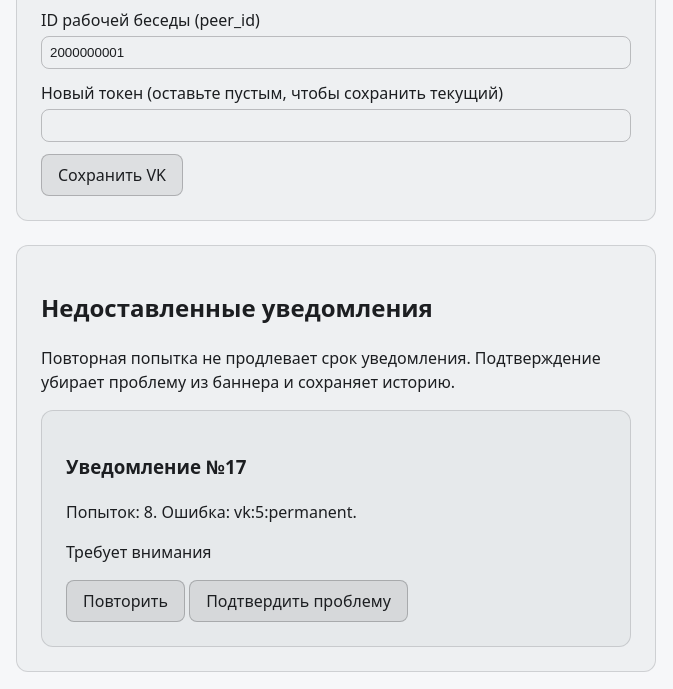
Test: VK settings › acknowledges DEAD and refetches the banner count while retaining history
This screenshot has width=673, height=689.
(page scrolled)
Click the button "Подтвердить проблему": click(299, 601) [189, 580, 408, 622]
(page scrolled)
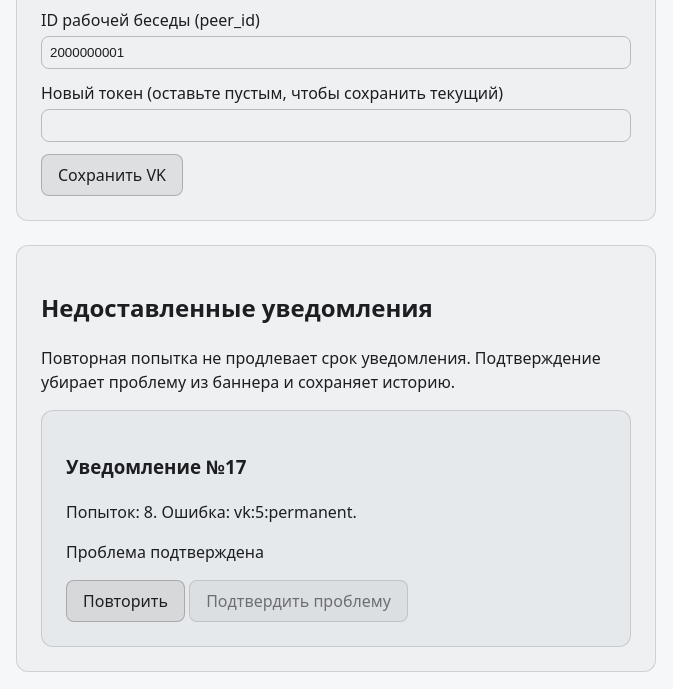
Result: the text "Проблема подтверждена" is shown at [66, 541, 264, 563]
Result: the button "Подтвердить проблему" is disabled at [189, 580, 408, 622]
